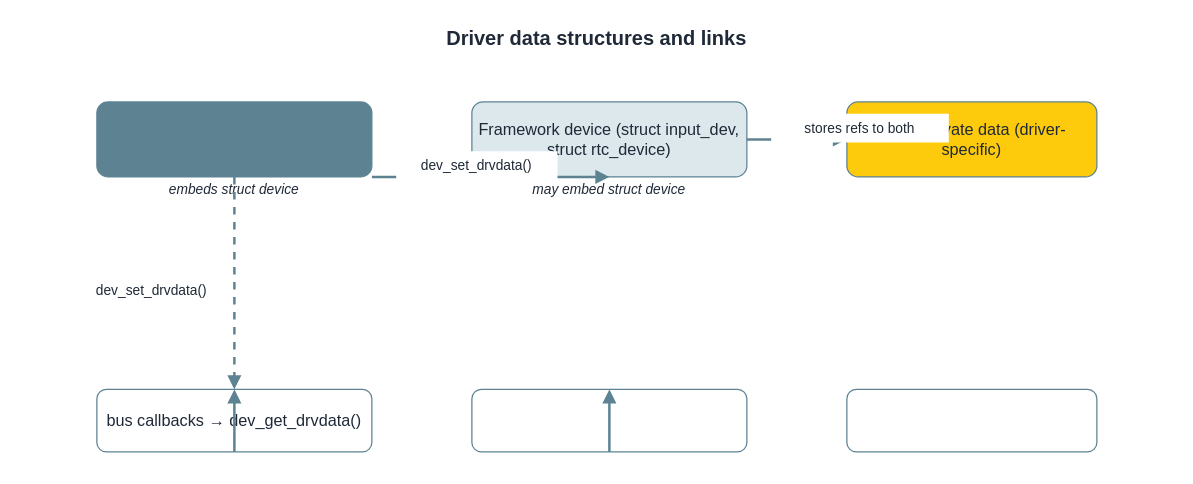
This 1193x484 diagram has some shape labels left out. The centre of each missing label's shape, as x and y in pixels:
"Bus device (struct i2c_client, struct usb_interface)" goes at (234,139).
"framework callbacks → container_of()" goes at (609,420).
"holds *bus_dev, *framework_dev" goes at (971,420).
